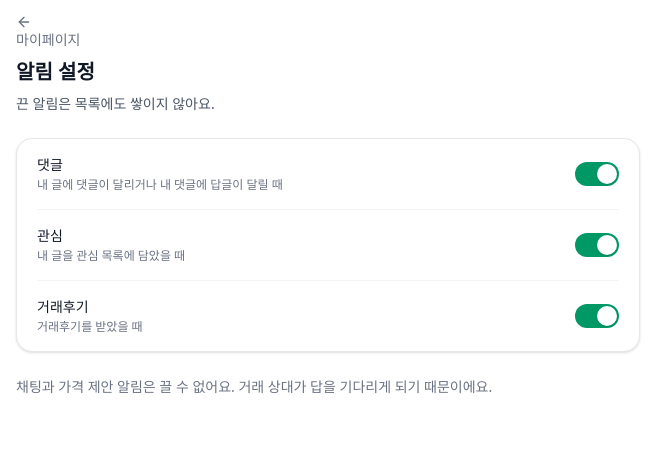
Test: NotificationSettingsPage › 실패하면 되돌리고 이유를 보여준다
Click the switch named "관심" in the row of "내 글을 관심 목록에 담았을 때".
click(597, 245)  # box [575,233,619,257]
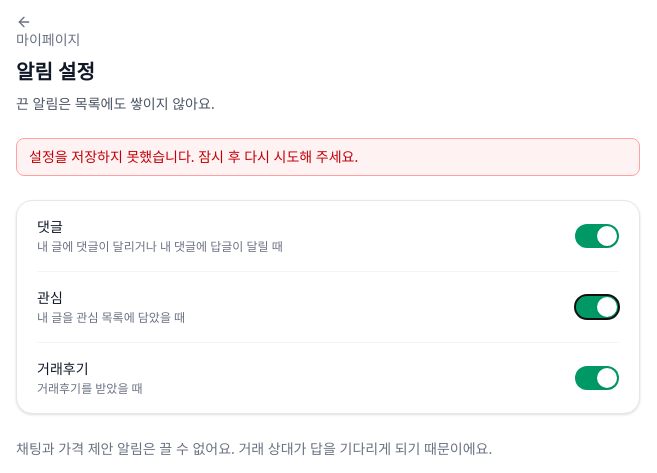
Expected: the switch named "관심" in the row of "내 글을 관심 목록에 담았을 때" is checked, [575,295,619,319]
Result: the message shows "설정을 저장하지 못했습니다" at [29,147,358,166]
